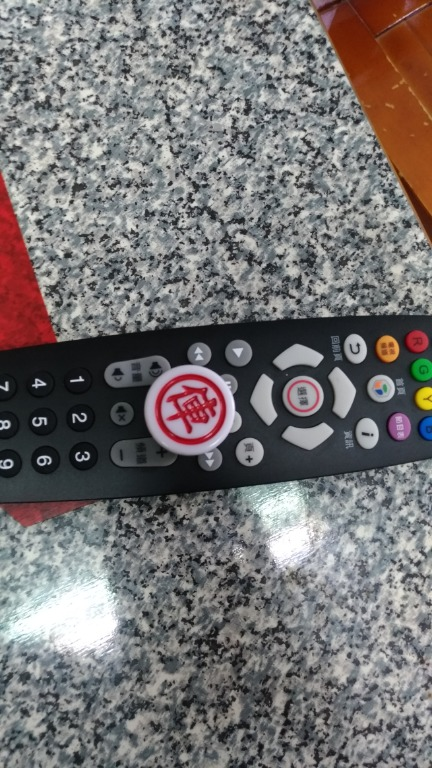r-rook: (125, 353, 258, 468)
